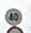limite 40: (3, 6, 23, 26)
